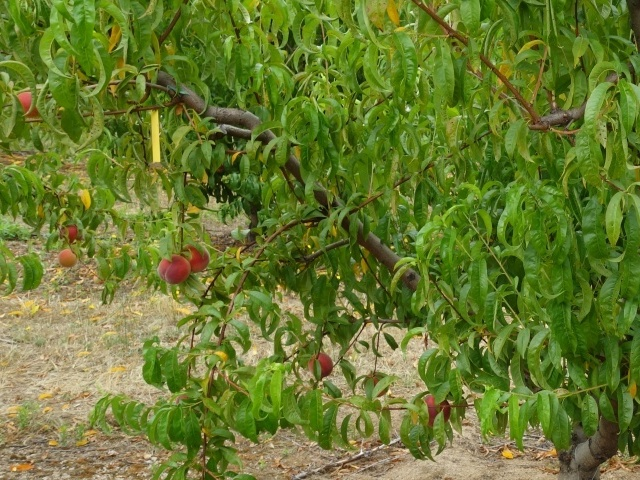peach: (154, 251, 193, 287), (175, 239, 214, 275), (420, 389, 453, 431), (12, 88, 42, 125), (305, 351, 335, 381), (53, 221, 82, 248), (55, 247, 82, 272)
